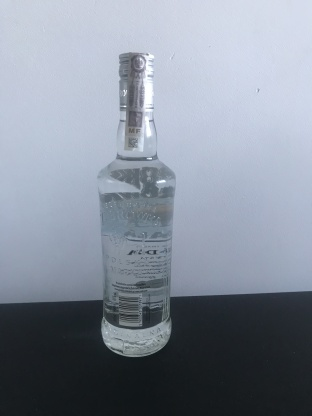nakretka: (116, 48, 156, 115)
